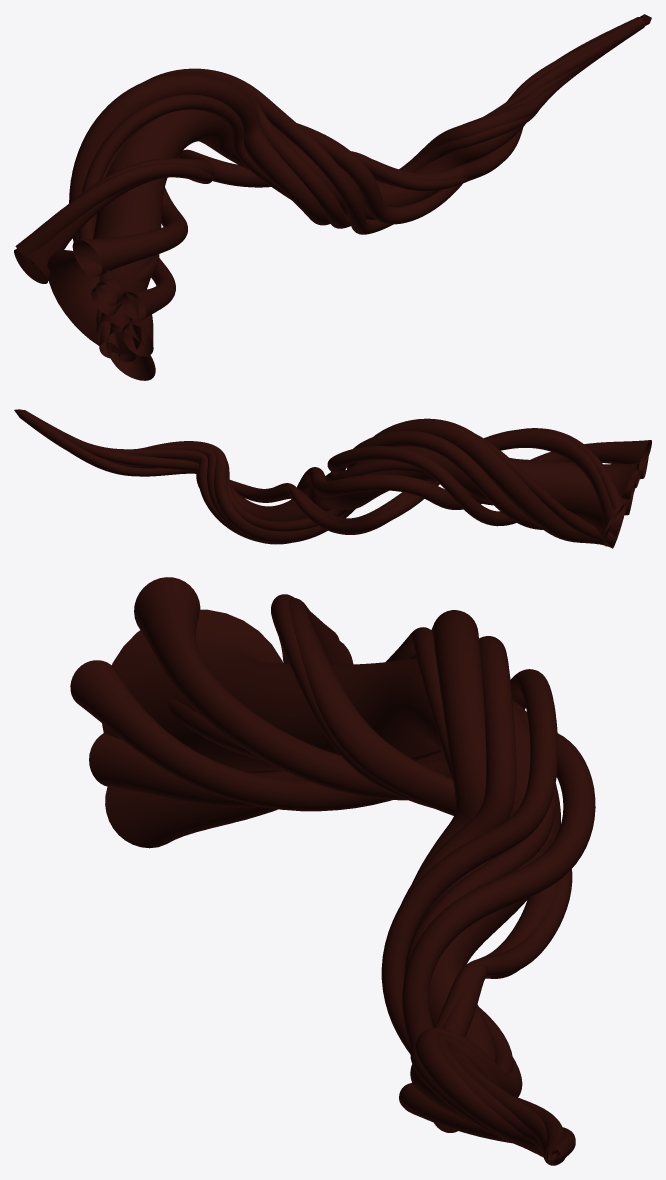
File: RacineFinal.fbx
3 views of the same model, one above another, from view 1: azimuth 30°, elevation 25°; view 2: azimuth 150°, elevation 25°; view 3: azimuth 270°, elevation 25° (orthographic). The views are drawn at different scales.
Parts seen in each view (by area): view 1: BezierCurve001; view 2: BezierCurve001; view 3: BezierCurve001.
Boxes of the visible parts, x1,y1,x2,y2 form: BezierCurve001: (14,14,651,380); BezierCurve001: (14,409,651,548); BezierCurve001: (70,577,595,1165).
Bounding box in the file's own units: 1.44 × 0.4029 × 0.5933.
